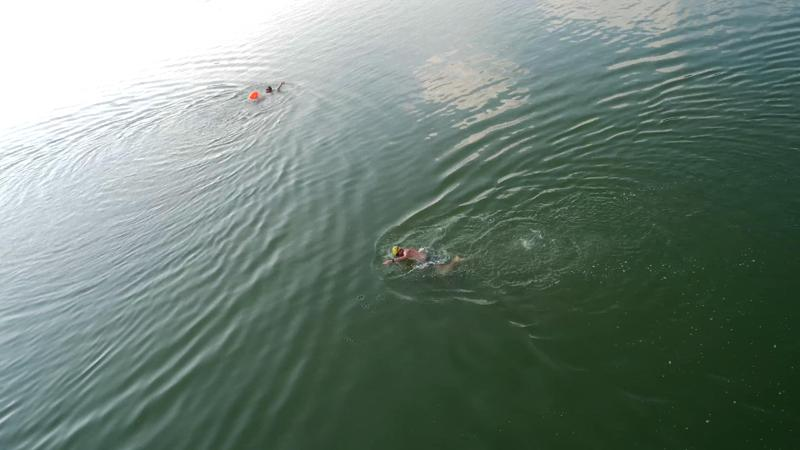swimmers: (382, 245, 462, 277)
